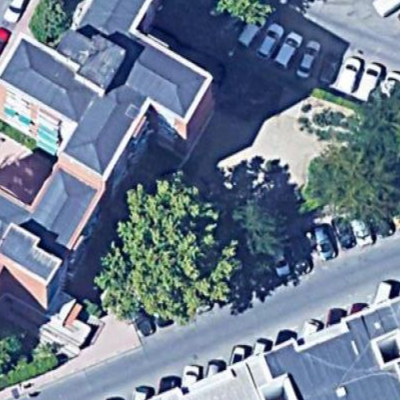tree: (94, 169, 244, 320), (297, 113, 400, 229), (228, 194, 291, 282), (209, 1, 277, 31), (31, 1, 74, 46)
